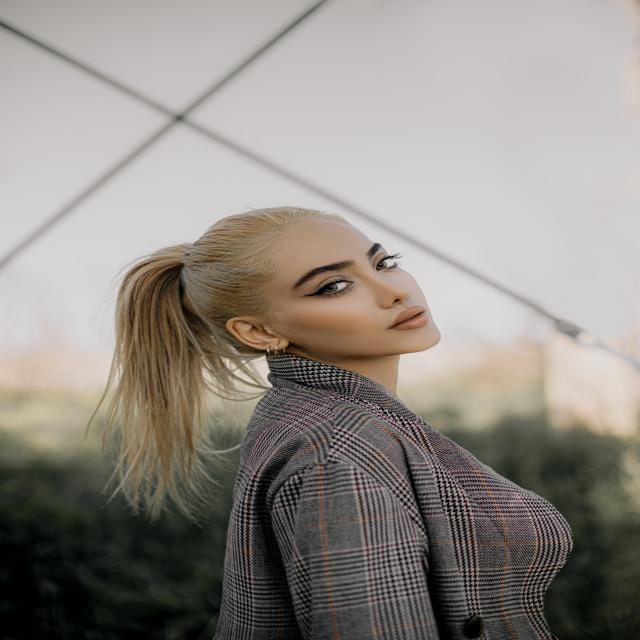adult: (109, 204, 577, 640)
